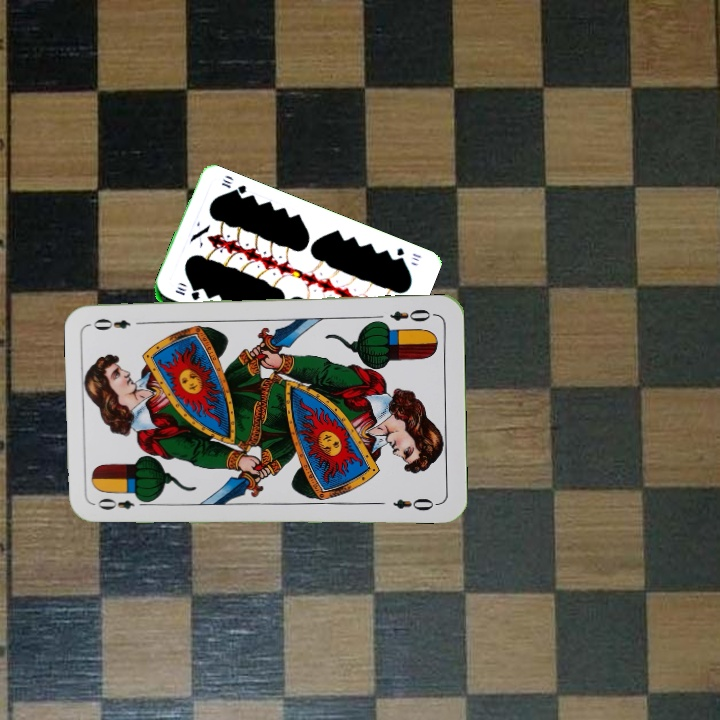EO: (93, 493, 151, 512), (386, 305, 433, 325)
G10: (392, 244, 424, 265), (171, 286, 202, 303)
